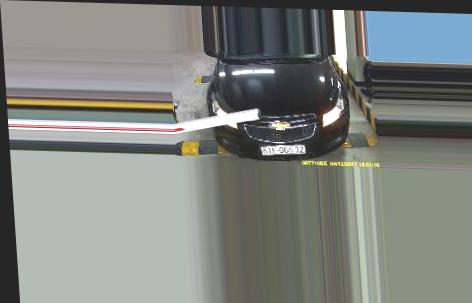License_Plate: (257, 140, 308, 157)
